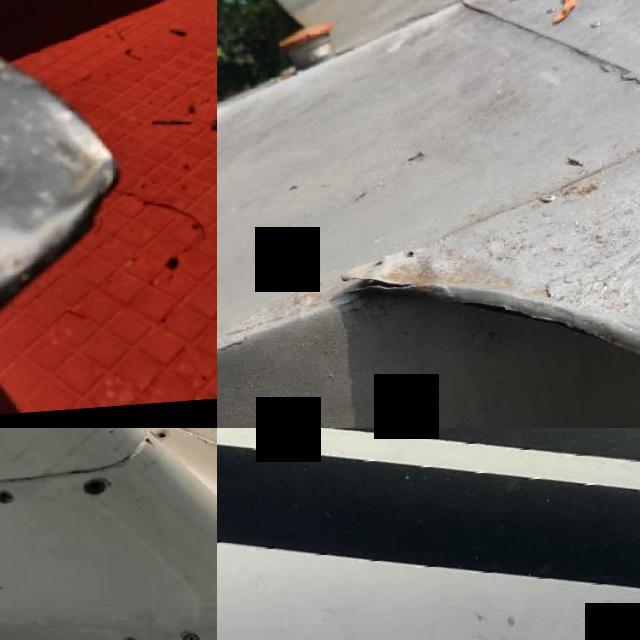Crack: (335, 266, 424, 314), (186, 432, 217, 460), (135, 444, 155, 454)
Dent: (0, 68, 150, 255)
Missing_Fastener: (80, 482, 108, 500), (0, 493, 13, 509), (154, 436, 168, 446)
